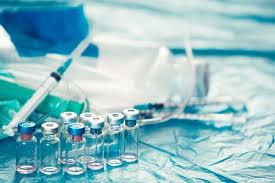Iv_Bottle: (65, 123, 86, 174), (16, 121, 36, 173), (39, 122, 59, 174), (86, 117, 104, 169), (59, 112, 77, 163), (122, 109, 138, 161), (107, 113, 123, 165), (79, 112, 95, 135)
Syringe: (3, 34, 90, 135)
